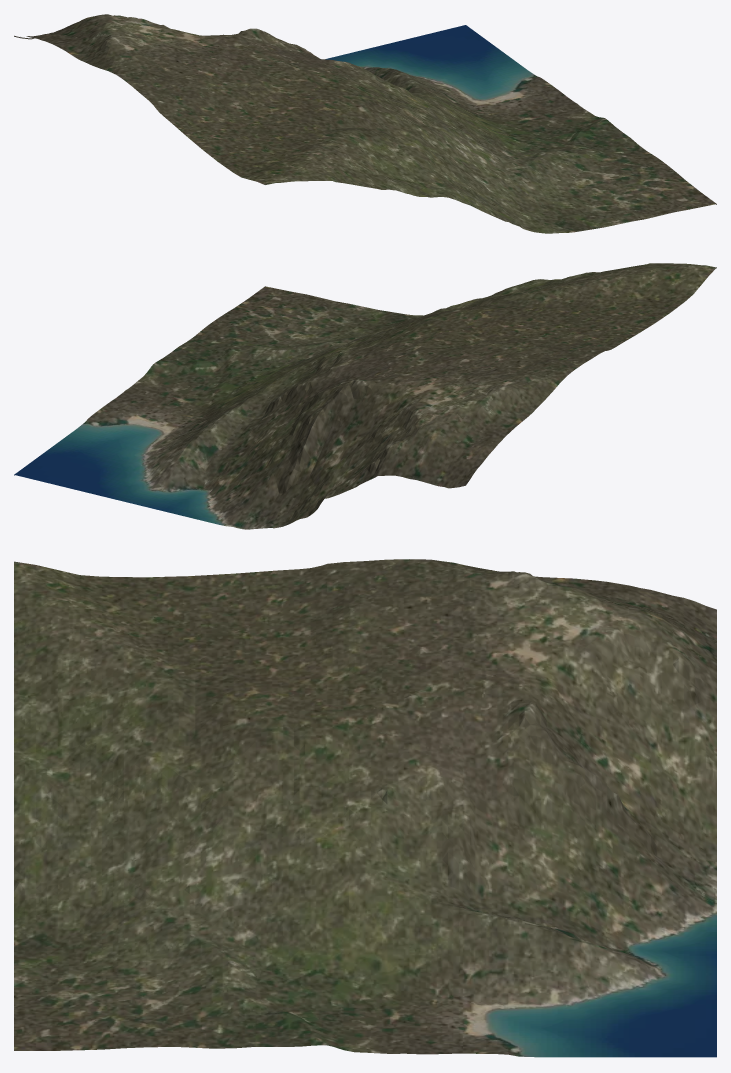
3 views of the same model, one above another, from view 1: azimuth 30°, elevation 25°; view 2: azimuth 150°, elevation 25°; view 3: azimuth 270°, elevation 25° (orthographic). The views are drawn at different scales.
Bounding box in the file's own units: 500 × 149 × 481.
1 material, 1 textured.
